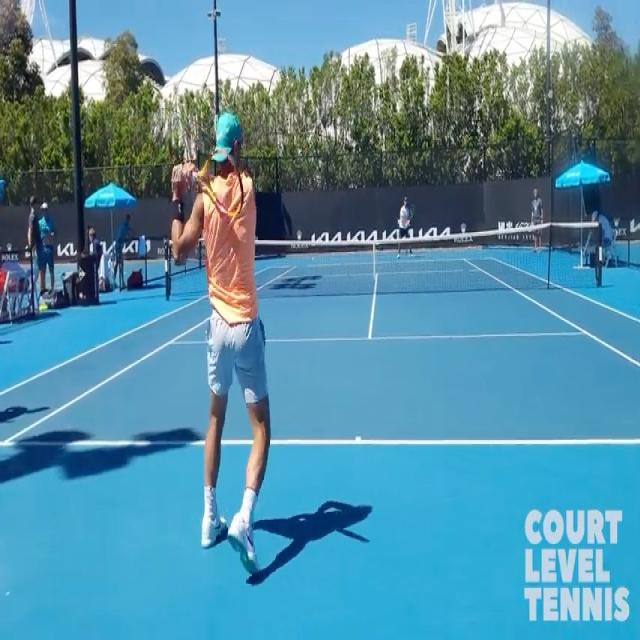backhand-finish: (172, 96, 272, 594)
